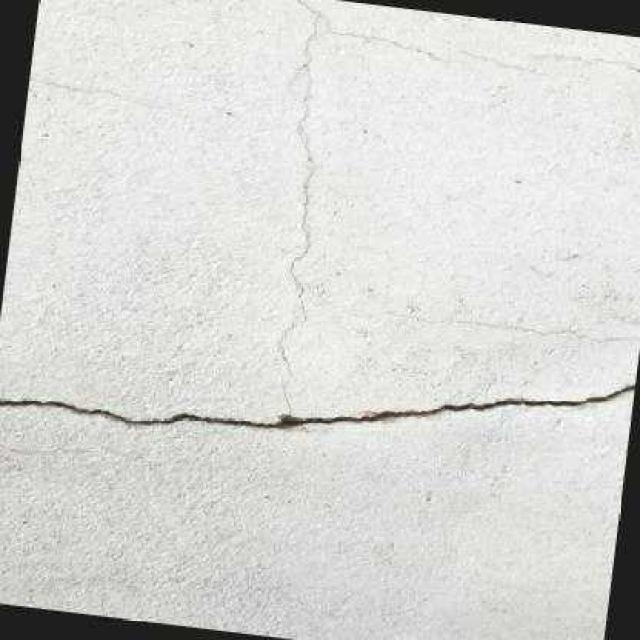D00: (0, 382, 635, 429)
